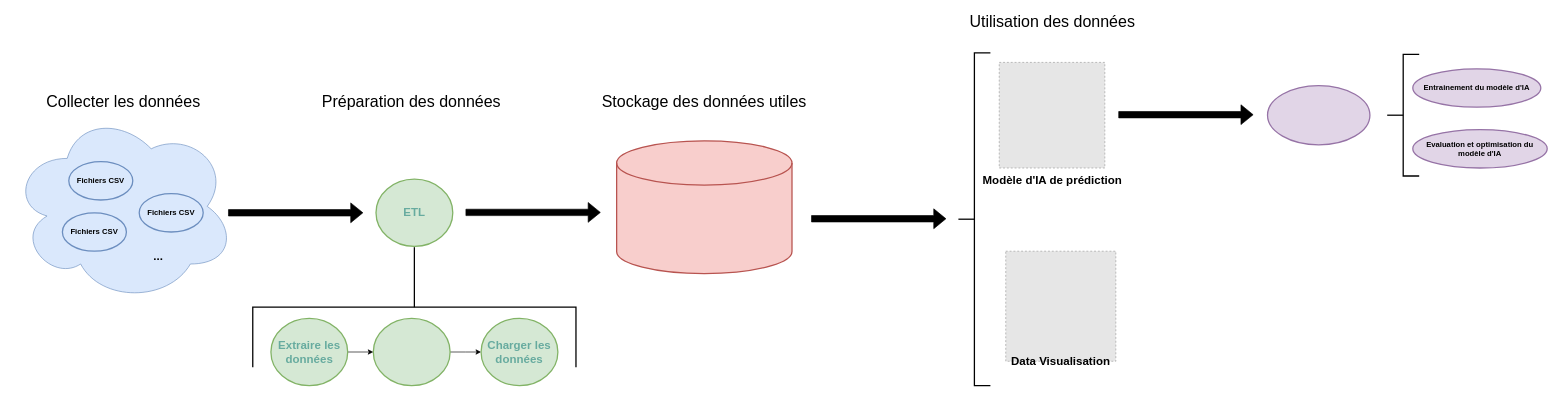
The diagram is 1559 pixels wide and 397 high, and some of its shapes have lost their labels. Grey dashed boxes stand in for pictures. The shapes that lost their labels are listed below. From the top down, each one's centre as x and y in pixels, then its label:
At pixel 1318 115: "Séparation des données d'entrainement, de test, et de validation".
At pixel 704 207: "Data Warehouse".
At pixel 411 351: "Transformer les données".
